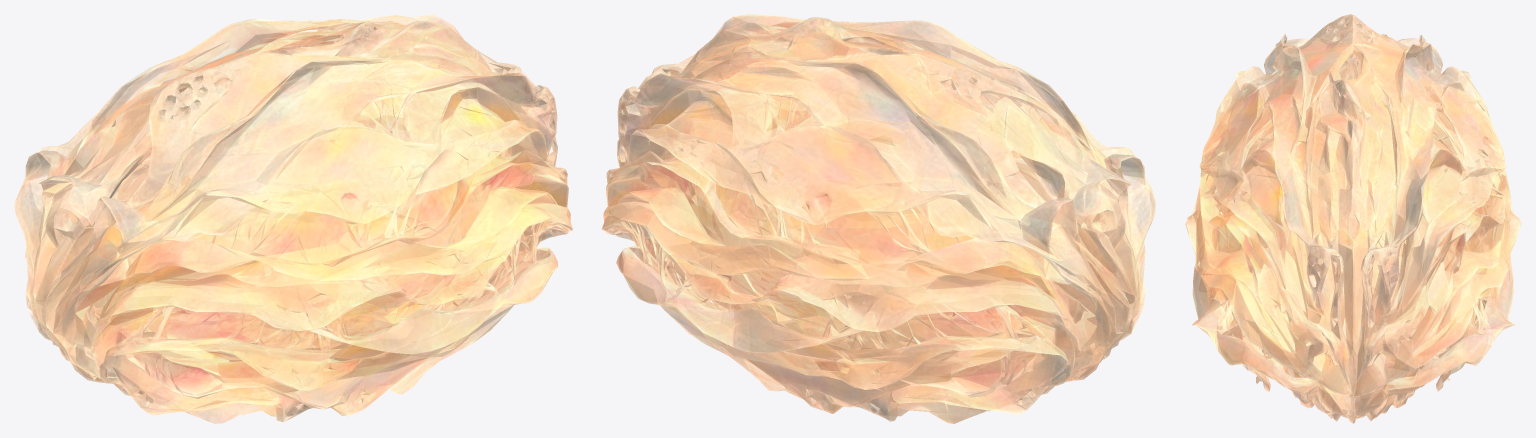
Rendered from cell09.glb.
The picture shows the model from 3 angles, left to right: view 1: azimuth 30°, elevation 25°; view 2: azimuth 150°, elevation 25°; view 3: azimuth 270°, elevation 25°; orthographic projection. The views are drawn at different scales.
Parts seen in each view (by area): view 1: Mesh_0; view 2: Mesh_0; view 3: Mesh_0.
Boxes of the visible parts, left/top/right/bottom form: Mesh_0: left=14, top=14, right=572, bottom=423; Mesh_0: left=601, top=14, right=1156, bottom=423; Mesh_0: left=1185, top=14, right=1521, bottom=423.
Size of the model in its own units: 1.9 by 1.24 by 1.16.
1 material, 1 textured.
